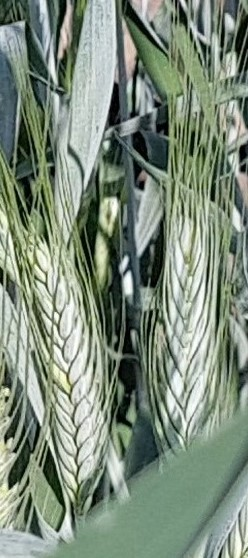Healthy Wheat: (16, 232, 107, 495), (145, 192, 232, 457)
